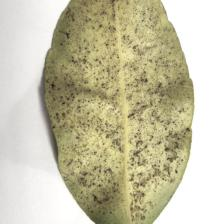canker: (77, 39, 165, 156)
